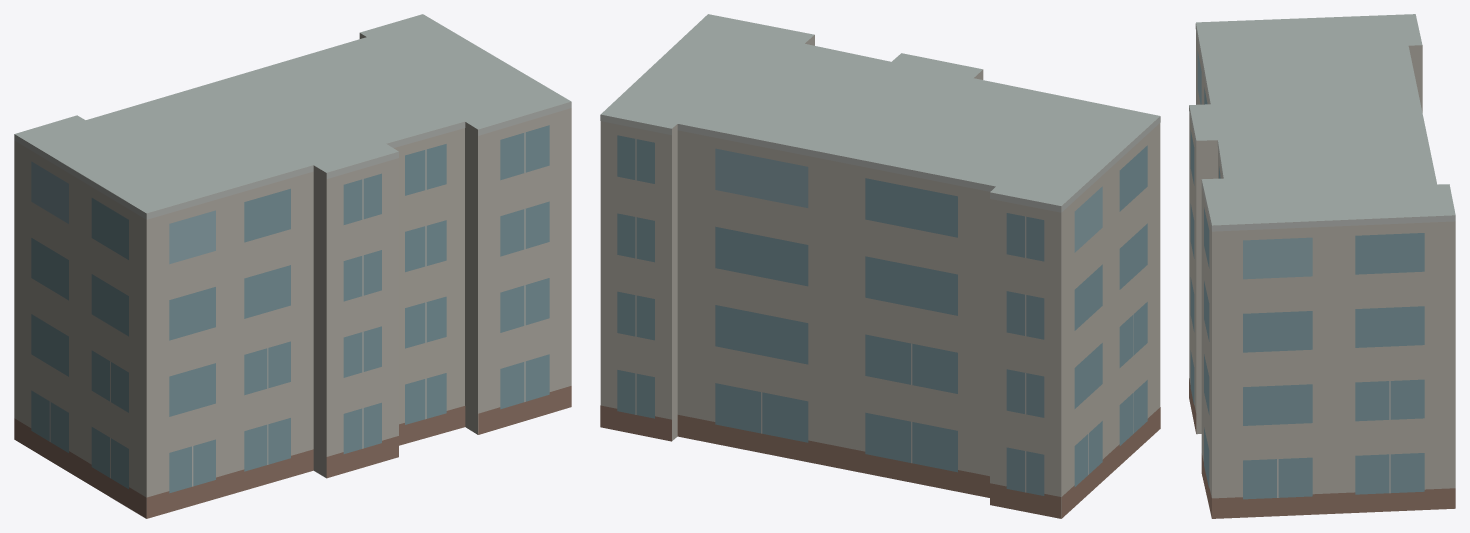
File: survey-upis-32759004.glb
The picture shows the model from 3 angles, left to right: view 1: azimuth 30°, elevation 25°; view 2: azimuth 150°, elevation 25°; view 3: azimuth 270°, elevation 25°; orthographic projection. The views are drawn at different scales.
Visible parts, largest first — view 1: survey-upis-32759004.tmp; view 2: survey-upis-32759004.tmp; view 3: survey-upis-32759004.tmp.
Part boxes in pixels (x1,y1,x2,y2): survey-upis-32759004.tmp: (14,14,571,518); survey-upis-32759004.tmp: (600,14,1160,518); survey-upis-32759004.tmp: (1189,14,1455,518).
Size of the model in its own units: 18.1 by 11.7 by 9.64.
